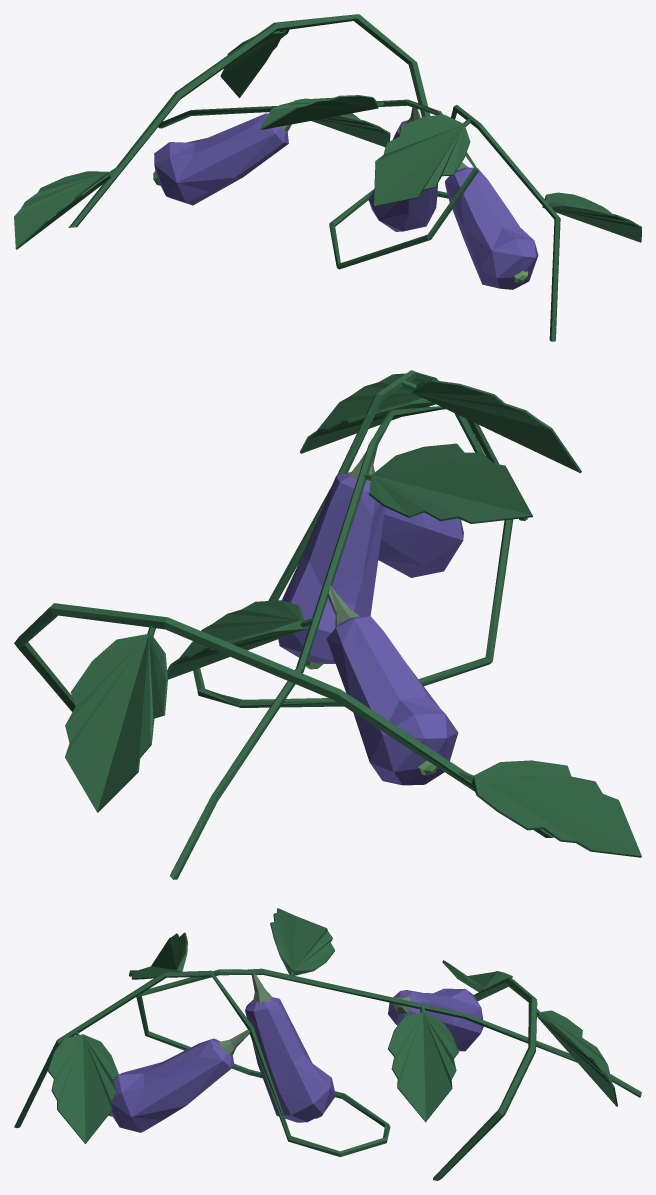
Rendered from mod_Plant_Aubergine.fbx.
3 renders of one model, top to bottom at view 1: azimuth 30°, elevation 25°; view 2: azimuth 150°, elevation 25°; view 3: azimuth 270°, elevation 25°, orthographic. The views are drawn at different scales.
Parts seen in each view (by area): view 1: TigeObergine, Obergine1, Obergine2, Obergine3; view 2: TigeObergine, Obergine1, Obergine3, Obergine2; view 3: TigeObergine, Obergine2, Obergine3, Obergine1.
Part boxes in pixels (<box>): TigeObergine: <box>14,14,641,341</box>; Obergine1: <box>153,113,291,205</box>; Obergine2: <box>445,162,538,289</box>; Obergine3: <box>368,107,437,231</box>; TigeObergine: <box>14,370,641,879</box>; Obergine1: <box>326,585,458,785</box>; Obergine3: <box>278,446,385,669</box>; Obergine2: <box>378,507,463,577</box>; TigeObergine: <box>14,908,641,1180</box>; Obergine2: <box>108,1029,249,1132</box>; Obergine3: <box>245,974,335,1122</box>; Obergine1: <box>388,988,483,1051</box>.
Bounding box in the file's own units: 106 × 40.95 × 137.
